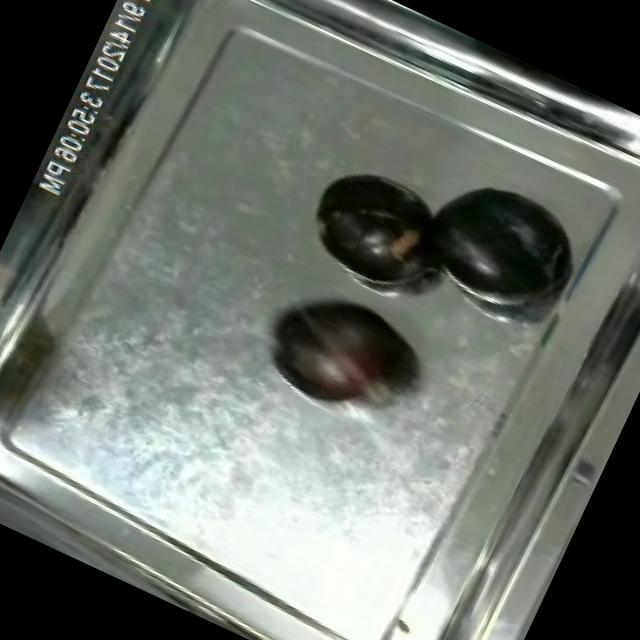Fruit: (400, 155, 588, 325), (250, 270, 434, 436), (295, 154, 450, 297)
